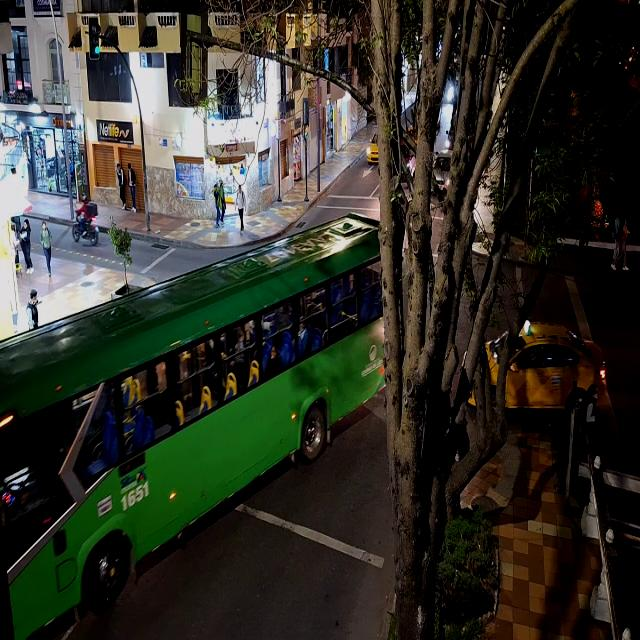BUS: (1, 212, 379, 640)
MOTORCYCLE: (74, 212, 100, 245)
SED: (367, 131, 379, 163)
